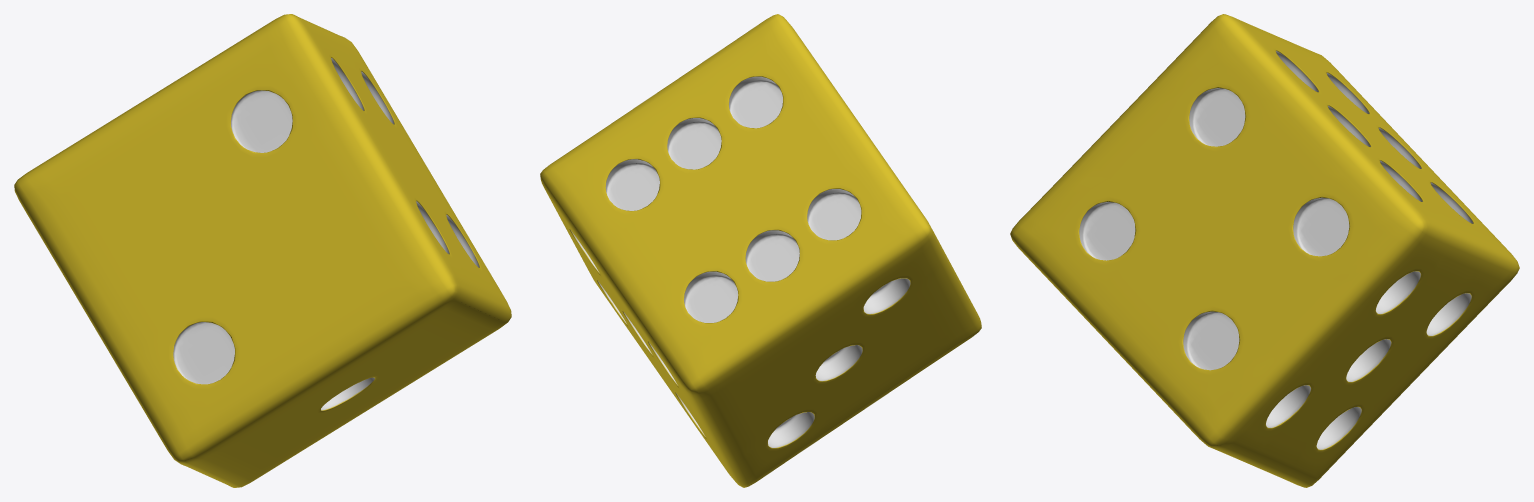
Rendered from DiceRoll2.gltf.
The picture shows the model from 3 angles, left to right: view 1: azimuth 30°, elevation 25°; view 2: azimuth 150°, elevation 25°; view 3: azimuth 270°, elevation 25°; orthographic projection. The views are drawn at different scales.
Visible parts, largest first — view 1: Cube; view 2: Cube; view 3: Cube.
Boxes of the visible parts, x1,y1,x2,y2 form: Cube: [14, 14, 511, 487]; Cube: [540, 14, 981, 487]; Cube: [1010, 14, 1519, 487].
Size of the model in its own units: 3.01 by 3.29 by 3.19.
1 material, 1 textured.
